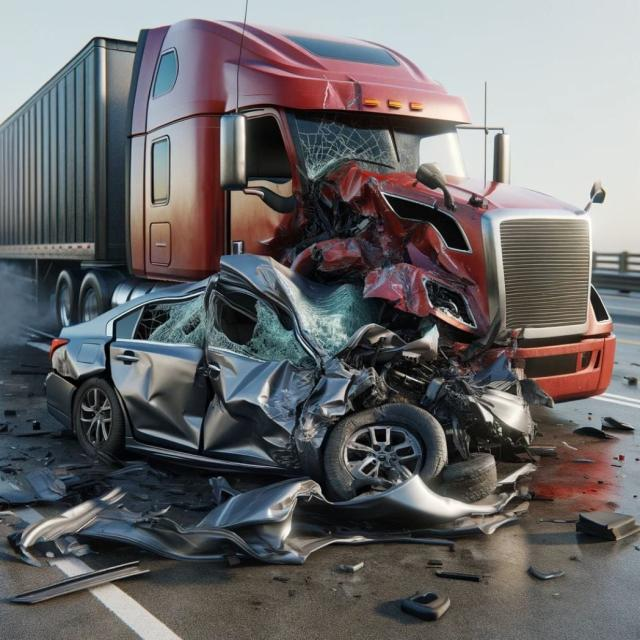Accident: (0, 14, 619, 574)
